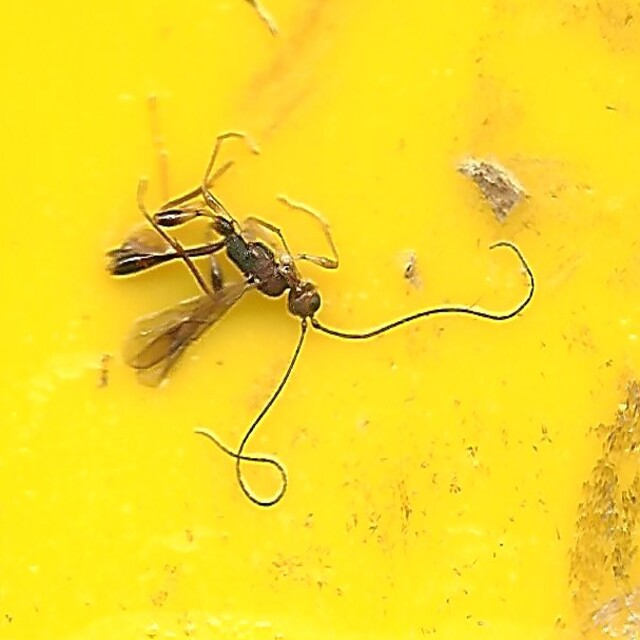Hymenoptera: (105, 132, 535, 508)
